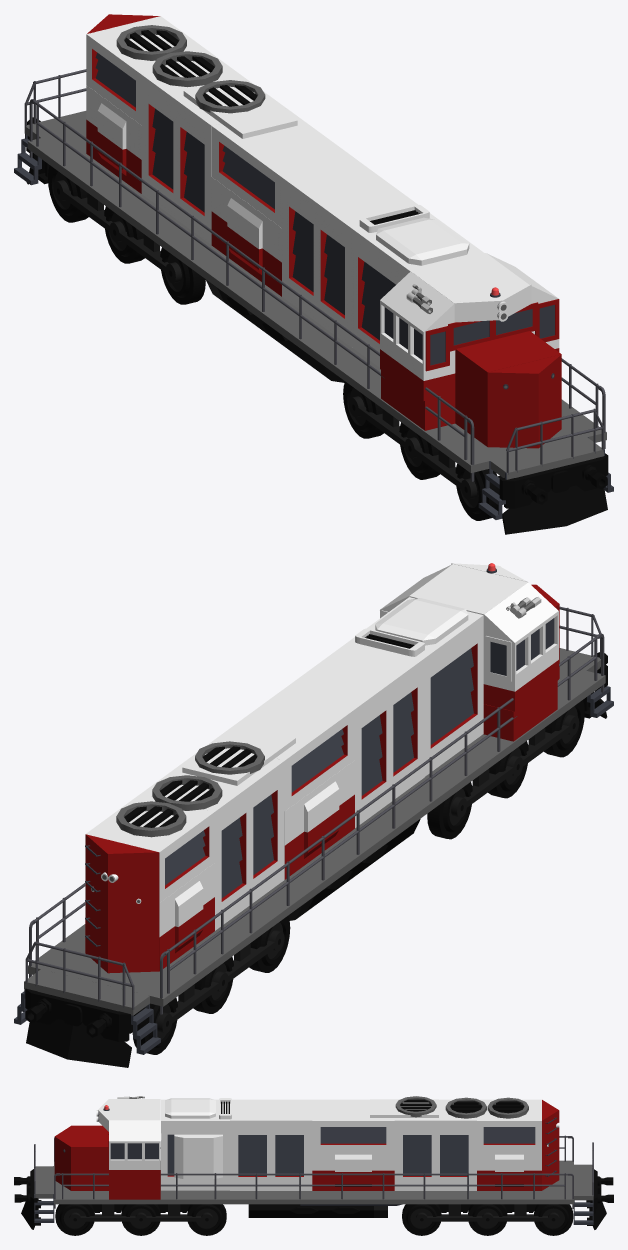
3 views of the same model, one above another, from view 1: azimuth 30°, elevation 25°; view 2: azimuth 150°, elevation 25°; view 3: azimuth 270°, elevation 25° (orthographic). The views are drawn at different scales.
Visible parts, largest first — view 1: block (×7), body_vents (×2), body_vent (×3), body_detail (×2), roof (×2), wheel_medium (×6), grate_round (×3), bogie_frame_connection (×4), 02 Bus Middle 01, window_small (×4), 02 Car Bumper 02, block_bevel (+5 smaller); view 2: block (×5), body_vents (×2), body_vent (×3), roof, body_detail (×2), wheel_medium (×6), grate_round (×3), bogie_frame_connection (×4), 02 Bus Middle 01, 02 Car Bumper 02, block_bevel, attachment_barrelThin (×2) (+5 smaller); view 3: block (×7), body_vents (×2), body_vent (×3), body_detail (×2), wheel_medium (×6), bogie_frame_connection (×4), roof (×3), attachment_barrelThin (×2), diesel_front_basic, 02 Bus Middle 01, grate_round (×3), steam_engine_round (+5 smaller).
Part boxes in pixels (x1,y1,x2,y2): block (×7): [24, 77, 606, 479]; body_vents (×2): [141, 56, 418, 347]; body_vent (×3): [86, 16, 484, 367]; body_detail (×2): [86, 85, 281, 296]; roof (×2): [454, 284, 561, 448]; wheel_medium (×6): [48, 165, 502, 520]; grate_round (×3): [116, 25, 265, 113]; bogie_frame_connection (×4): [53, 180, 477, 499]; 02 Bus Middle 01: [380, 300, 559, 400]; window_small (×4): [425, 299, 559, 371]; 02 Car Bumper 02: [502, 485, 607, 534]; block_bevel: [376, 217, 469, 265]; block (×5): [24, 564, 605, 1015]; body_vents (×2): [141, 640, 424, 930]; body_vent (×3): [85, 597, 483, 902]; roof: [85, 834, 159, 973]; body_detail (×2): [85, 760, 354, 971]; wheel_medium (×6): [132, 700, 584, 1054]; grate_round (×3): [116, 741, 264, 837]; bogie_frame_connection (×4): [156, 714, 579, 1033]; 02 Bus Middle 01: [380, 610, 558, 711]; 02 Car Bumper 02: [26, 1019, 131, 1067]; block_bevel: [375, 598, 468, 645]; attachment_barrelThin (×2): [164, 698, 517, 970]; block (×7): [34, 1099, 593, 1204]; body_vents (×2): [230, 1099, 476, 1190]; body_vent (×3): [161, 1099, 541, 1190]; body_detail (×2): [312, 1151, 541, 1190]; wheel_medium (×6): [55, 1204, 573, 1235]; bogie_frame_connection (×4): [69, 1204, 559, 1224]; roof (×3): [54, 1099, 559, 1190]; attachment_barrelThin (×2): [160, 1173, 567, 1186]; diesel_front_basic: [174, 1134, 222, 1178]; 02 Bus Middle 01: [109, 1141, 160, 1181]; grate_round (×3): [395, 1096, 528, 1118]; steam_engine_round: [248, 1204, 387, 1217].
Bounding box in the file's own units: 11.21 × 15.7 × 72.88.
